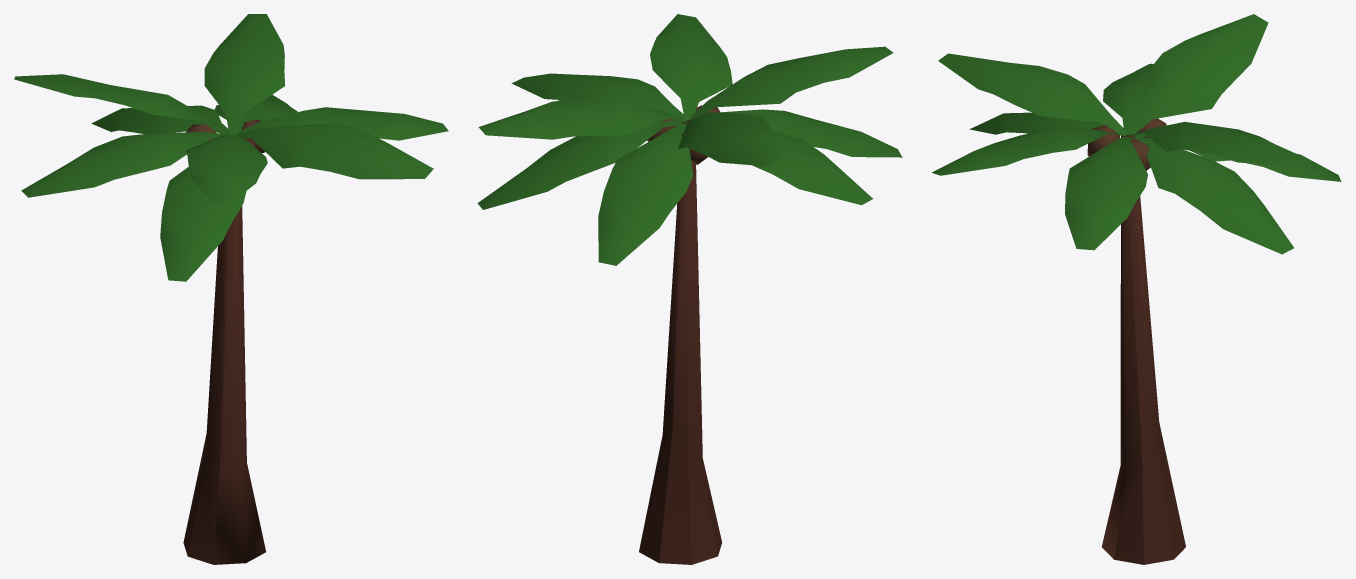
The model's file is SM_palmtree_04_LOD3.fbx.
The picture shows the model from 3 angles, left to right: view 1: azimuth 30°, elevation 25°; view 2: azimuth 150°, elevation 25°; view 3: azimuth 270°, elevation 25°; orthographic projection. The views are drawn at different scales.
Parts seen in each view (by area): view 1: Palm_tree_01; view 2: Palm_tree_01; view 3: Palm_tree_01.
Boxes of the visible parts, bbox=[...] form: Palm_tree_01: bbox=[14, 14, 448, 564]; Palm_tree_01: bbox=[477, 14, 902, 564]; Palm_tree_01: bbox=[932, 14, 1341, 564].
Size of the model in its own units: 519 by 599 by 483.
